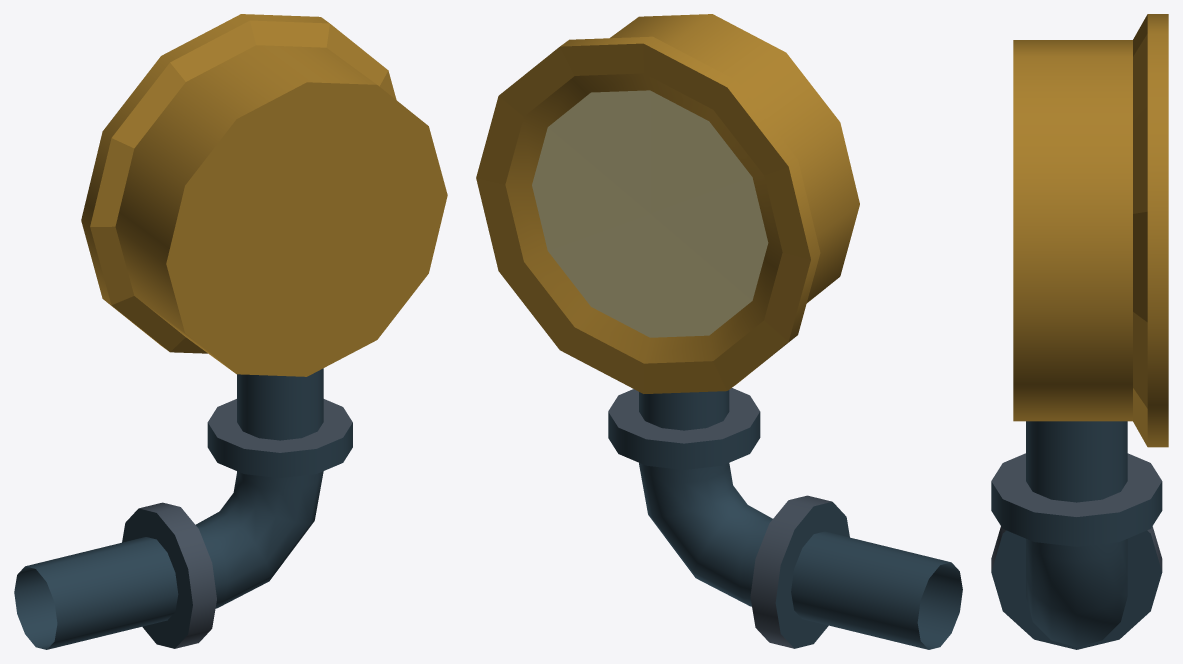
Rendered from relogio_pressao_002.fbx.
3 renders of one model, left to right at view 1: azimuth 30°, elevation 25°; view 2: azimuth 150°, elevation 25°; view 3: azimuth 270°, elevation 25°, orthographic. The views are drawn at different scales.
Visible parts, largest first — view 1: relogio_pressao_002; view 2: relogio_pressao_002; view 3: relogio_pressao_002.
Boxes of the visible parts, box(x1,y1,x2,y2) form: relogio_pressao_002: box(14, 14, 447, 649); relogio_pressao_002: box(476, 14, 962, 649); relogio_pressao_002: box(991, 14, 1168, 649).
Size of the model in its own units: 93.06 by 126 by 30.03.
